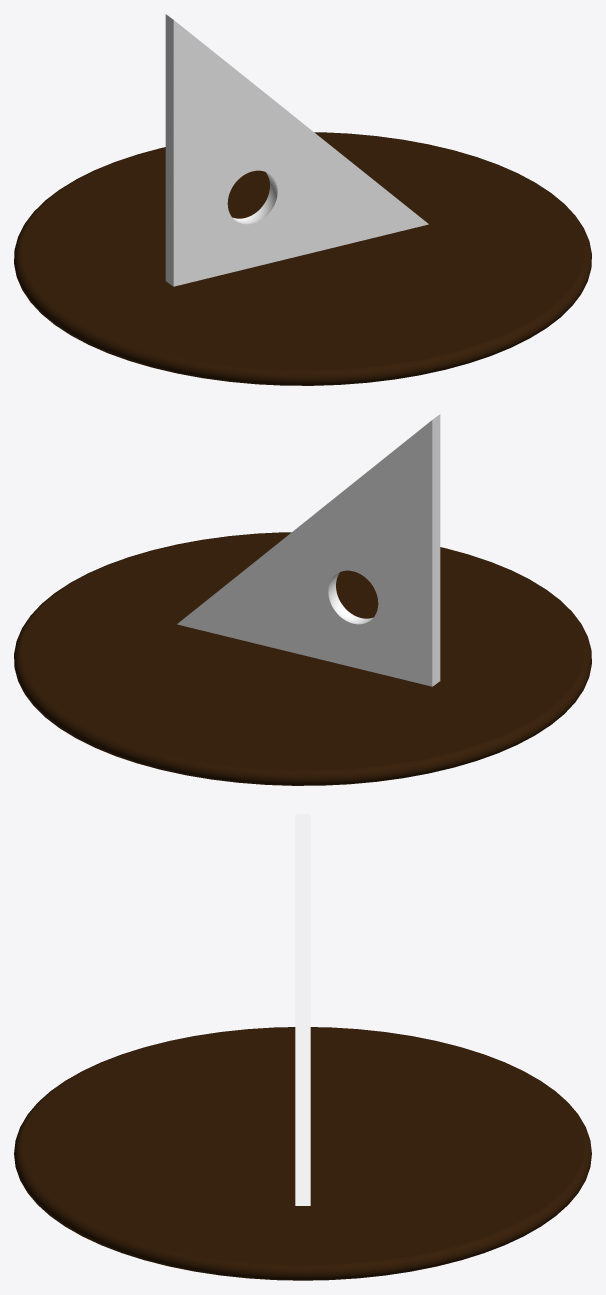
File: Project Name.gltf
3 views of the same model, one above another, from view 1: azimuth 30°, elevation 25°; view 2: azimuth 150°, elevation 25°; view 3: azimuth 270°, elevation 25° (orthographic).
Visible parts, largest first — view 1: Cylinder, Box & Box 1 & Sphere; view 2: Cylinder, Box & Box 1 & Sphere; view 3: Cylinder, Box & Box 1 & Sphere.
Boxes of the visible parts, <box> form: Cylinder: <box>14,132,591,385</box>; Box & Box 1 & Sphere: <box>165,14,428,286</box>; Cylinder: <box>14,532,591,785</box>; Box & Box 1 & Sphere: <box>177,414,440,686</box>; Cylinder: <box>14,1027,591,1280</box>; Box & Box 1 & Sphere: <box>295,814,310,1205</box>.
Size of the model in its own units: 0.1878 by 0.1011 by 0.1878.
